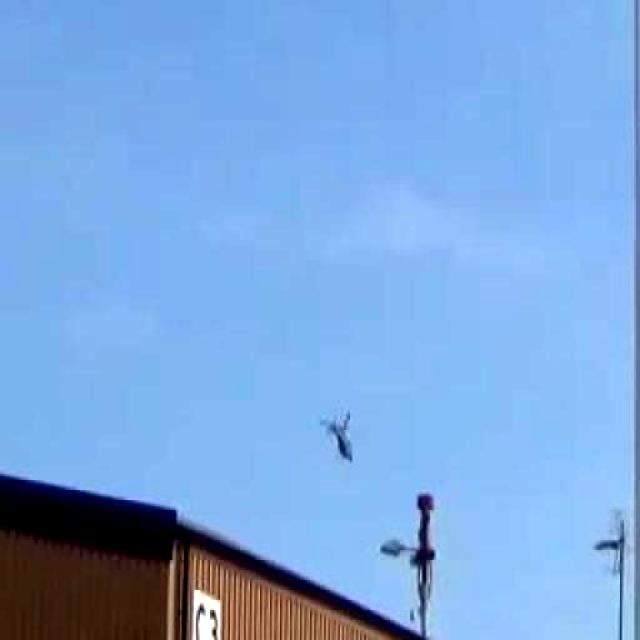drone: (304, 376, 380, 500)
